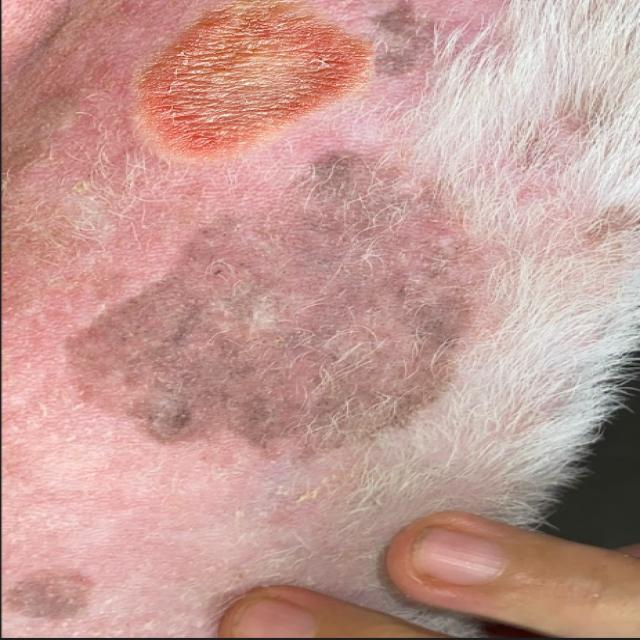ringworm: (94, 5, 424, 166)
